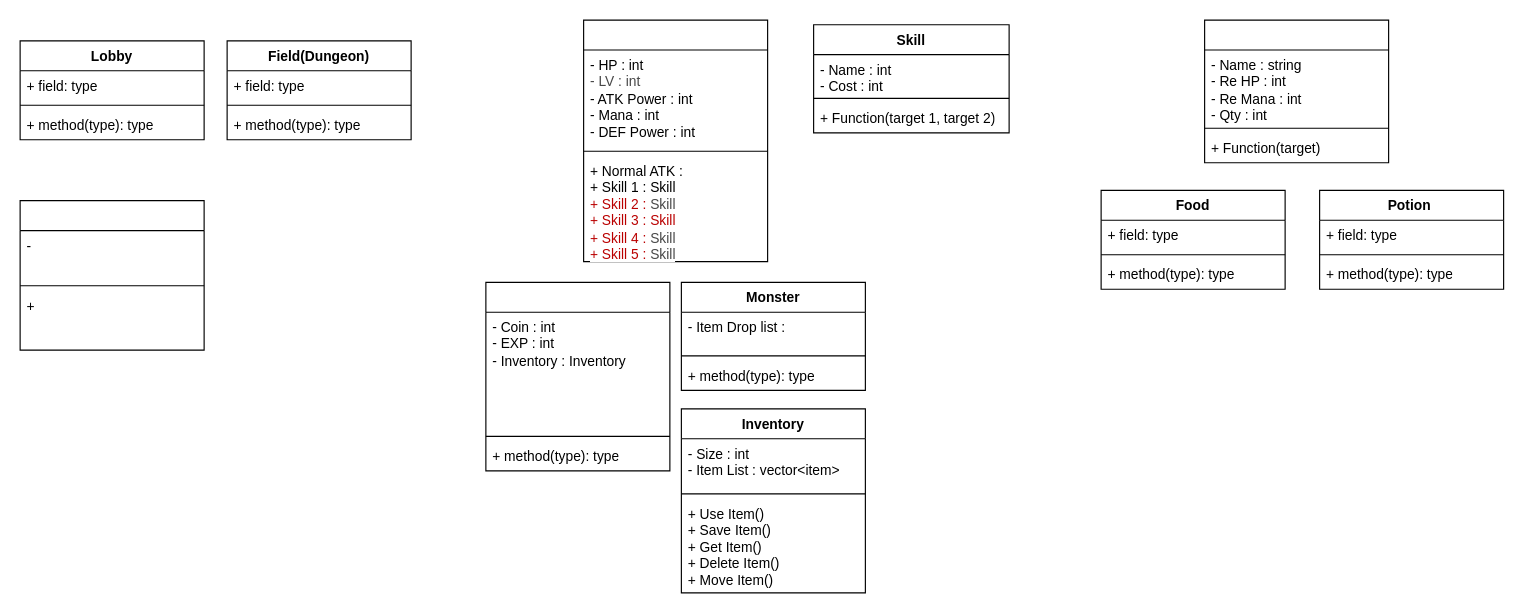
Some shapes in this 1524 by 616 pixel diagram are drawn without their labels. The shapes that lost their labels are listed below. From the top down, each one's box as (x1, y1, x2, y2) in pixels, then its label:
(1203, 19, 1389, 163): Item
(582, 19, 768, 262): Entity
(19, 200, 204, 350): Shop
(485, 281, 670, 471): Player
